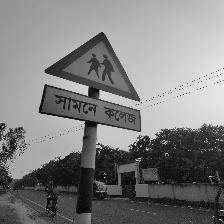College-in-front: (44, 16, 161, 147)
